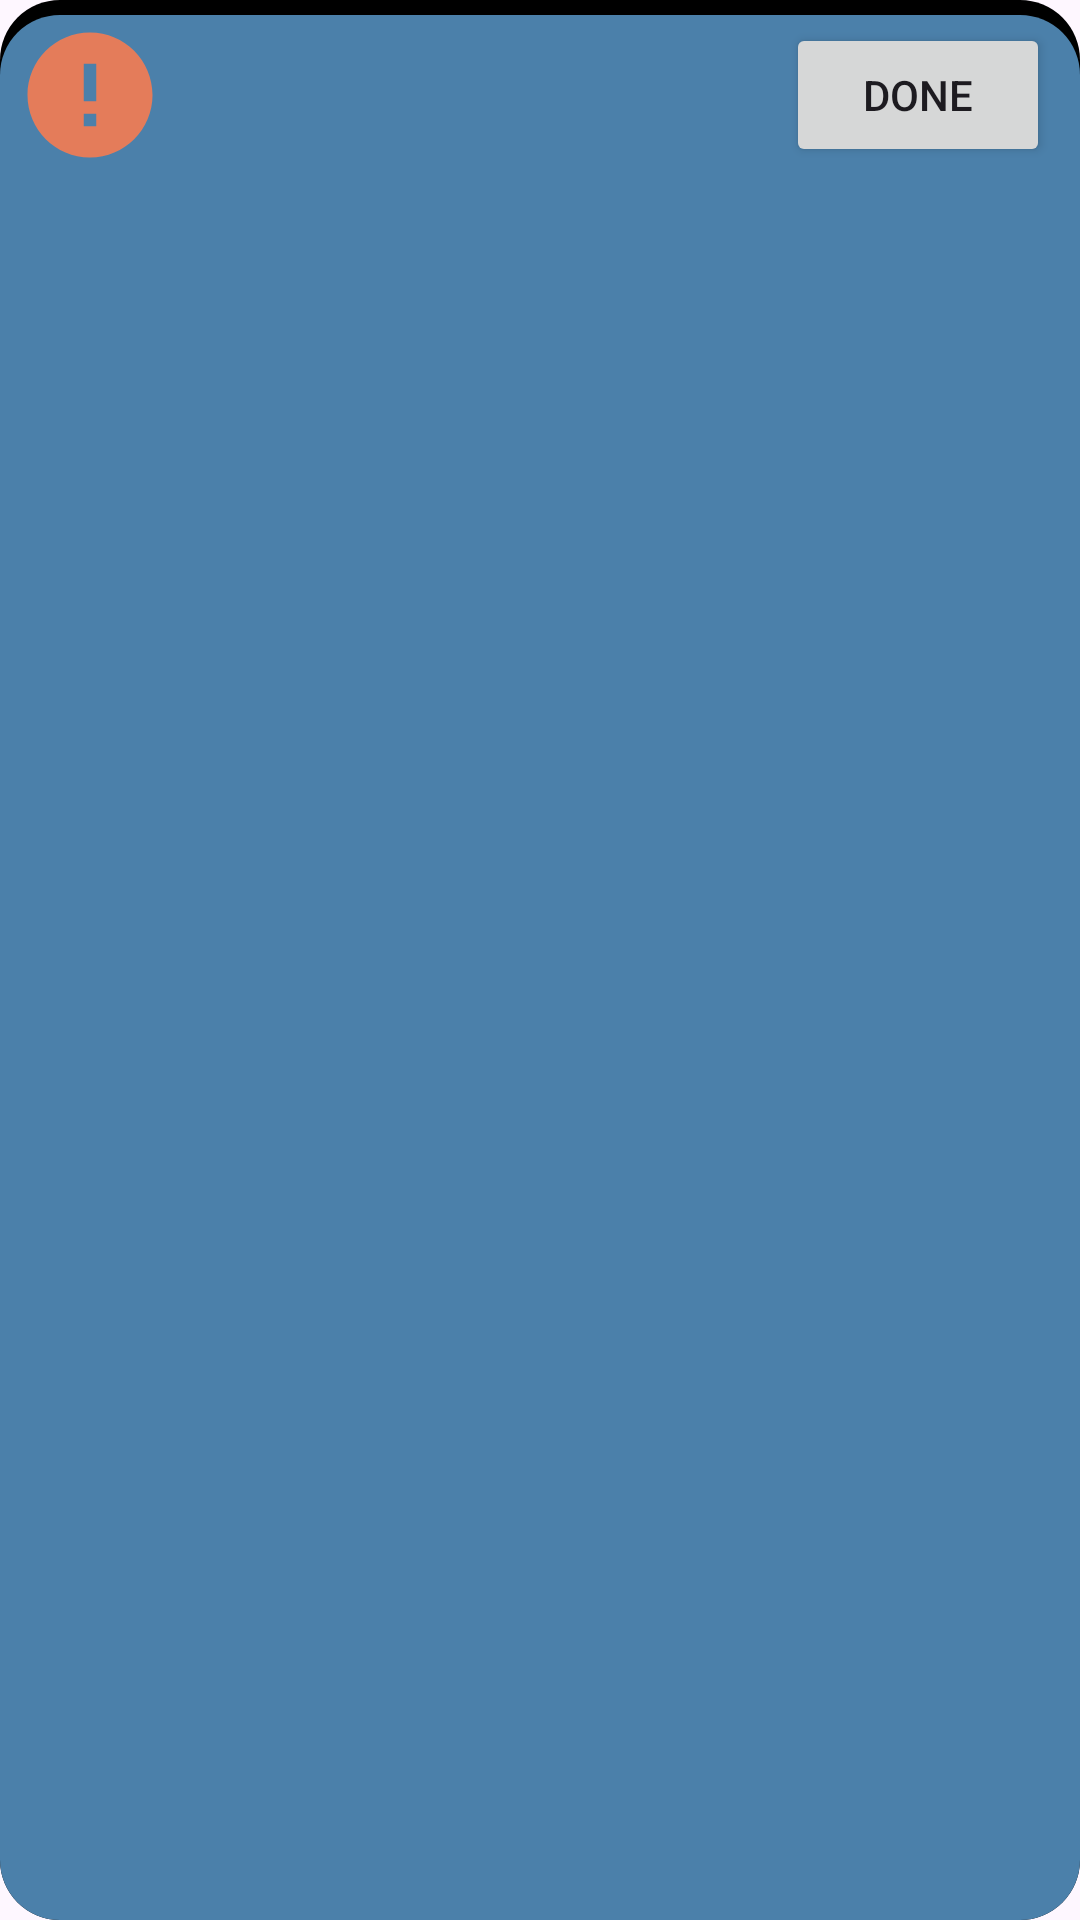

Icons on this 1080px×1920px Android screen, each with its box as {"left": x1, "top": y1, "right": x2, "bottom": y2}:
error: {"left": 27, "top": 32, "right": 153, "bottom": 158}
